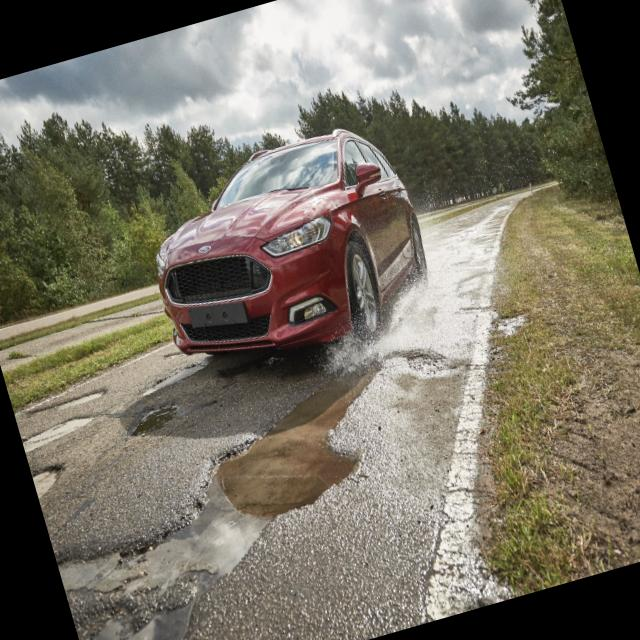Potholes: (23, 314, 540, 640), (112, 380, 238, 449), (7, 362, 108, 448), (25, 437, 89, 501)
